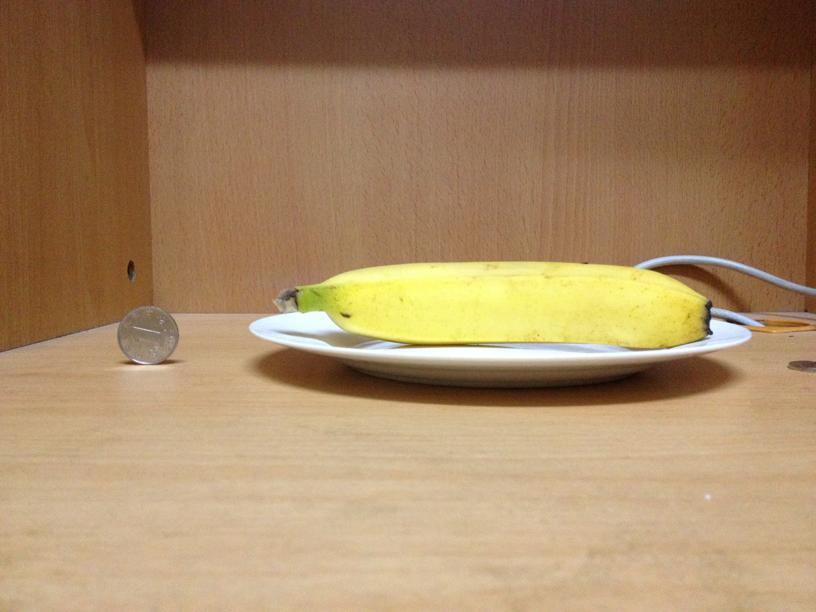banana: (300, 262, 709, 346)
coin: (119, 304, 178, 364)
